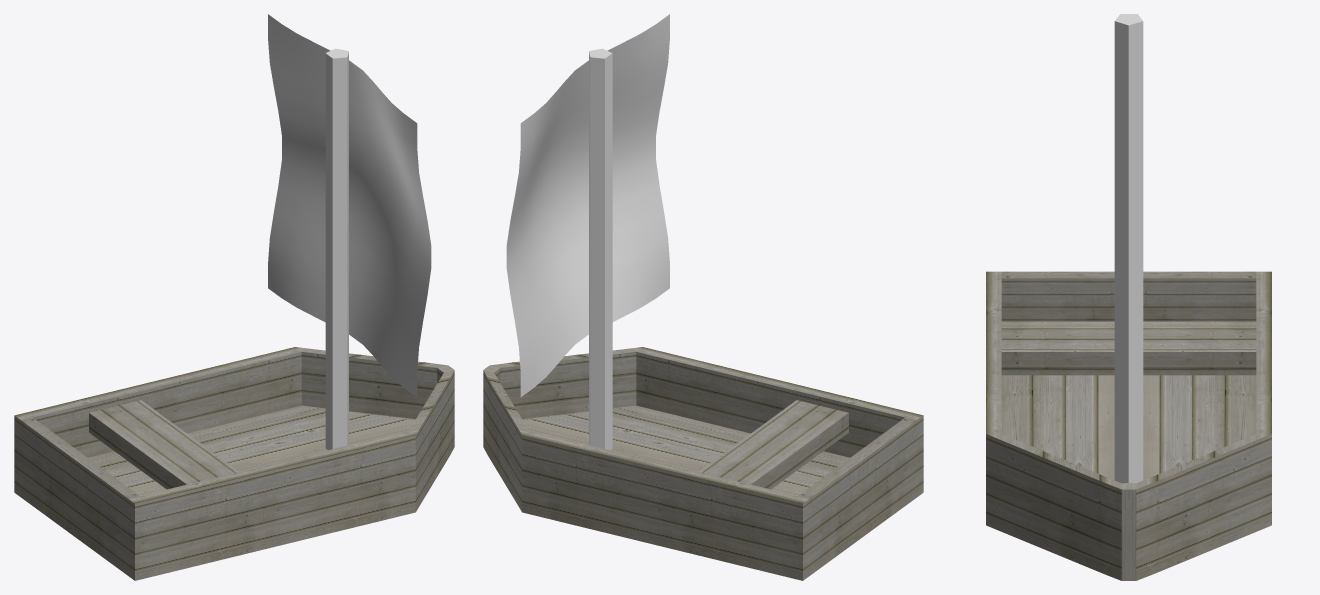
The model's file is Sailboat.glb.
3 views of the same model, side by side, from view 1: azimuth 30°, elevation 25°; view 2: azimuth 150°, elevation 25°; view 3: azimuth 270°, elevation 25° (orthographic). The views are drawn at different scales.
Parts seen in each view (by area): view 1: Hull, Sail, Mast; view 2: Hull, Sail, Mast; view 3: Hull, Mast.
Boxes of the visible parts, <box> form: Hull: <box>14,347,454,580</box>; Sail: <box>268,14,431,397</box>; Mast: <box>325,48,348,449</box>; Hull: <box>483,347,923,580</box>; Sail: <box>506,14,669,397</box>; Mast: <box>589,48,612,449</box>; Hull: <box>986,271,1271,580</box>; Mast: <box>1114,14,1143,483</box>.
Size of the model in its own units: 4.91 by 5.21 by 3.37.
1 material, 1 textured.
